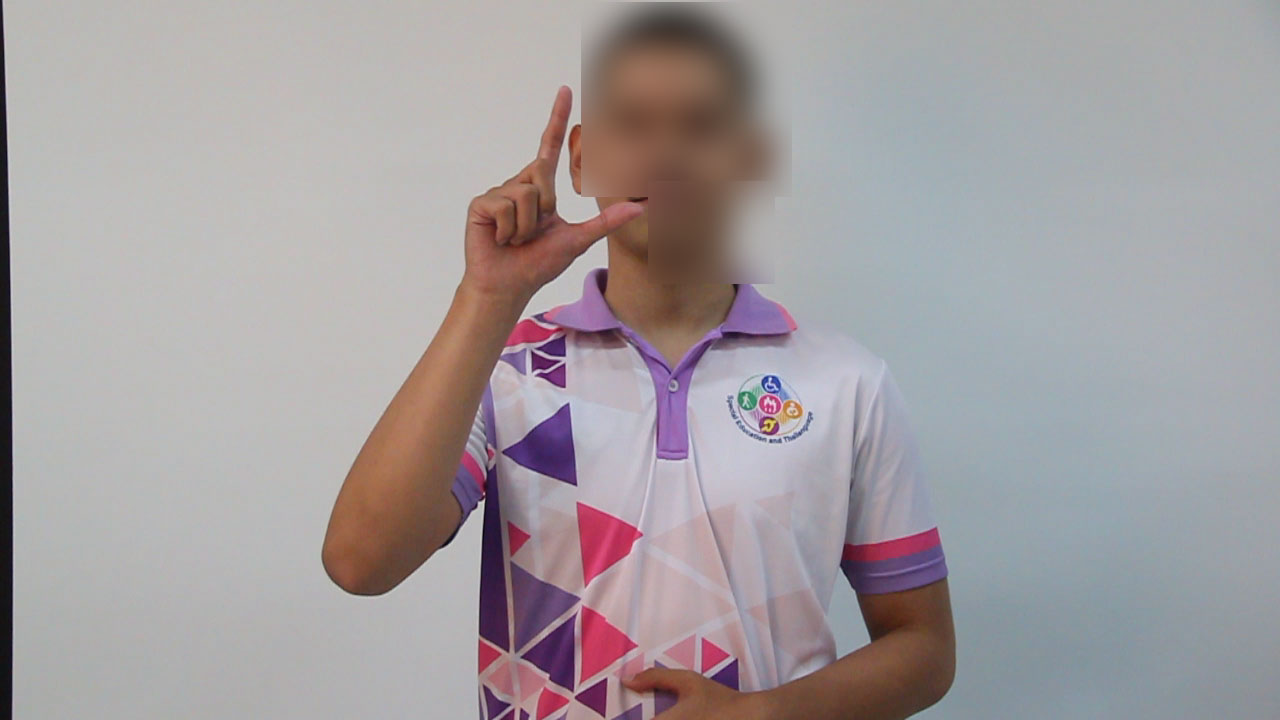lor: (455, 51, 646, 329)
